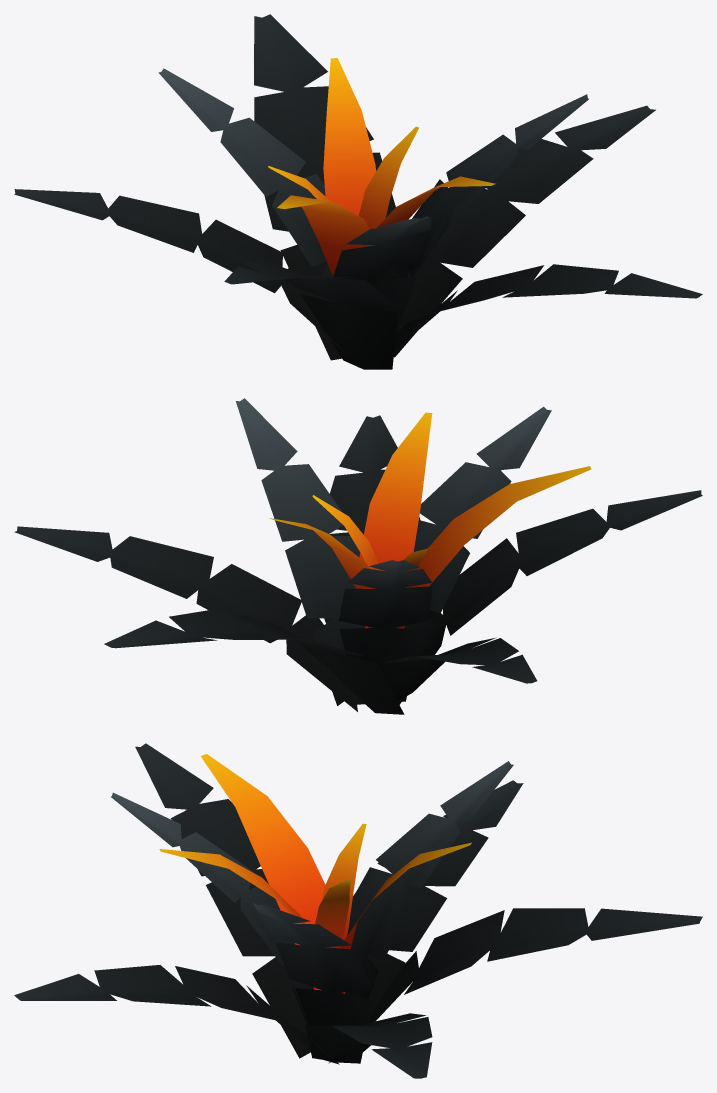
The model's file is desert_flower_0.fbx.
3 views of the same model, one above another, from view 1: azimuth 30°, elevation 25°; view 2: azimuth 150°, elevation 25°; view 3: azimuth 270°, elevation 25° (orthographic). The views are drawn at different scales.
Visible parts, largest first — view 1: Desert Flower 0; view 2: Desert Flower 0; view 3: Desert Flower 0.
Part boxes in pixels (x1=…): Desert Flower 0: x1=14, y1=14, x2=702, y2=369; Desert Flower 0: x1=14, y1=398, x2=702, y2=714; Desert Flower 0: x1=14, y1=743, x2=702, y2=1078.
Bounding box in the file's own units: 179 × 72.24 × 188.
1 material, 1 textured.
